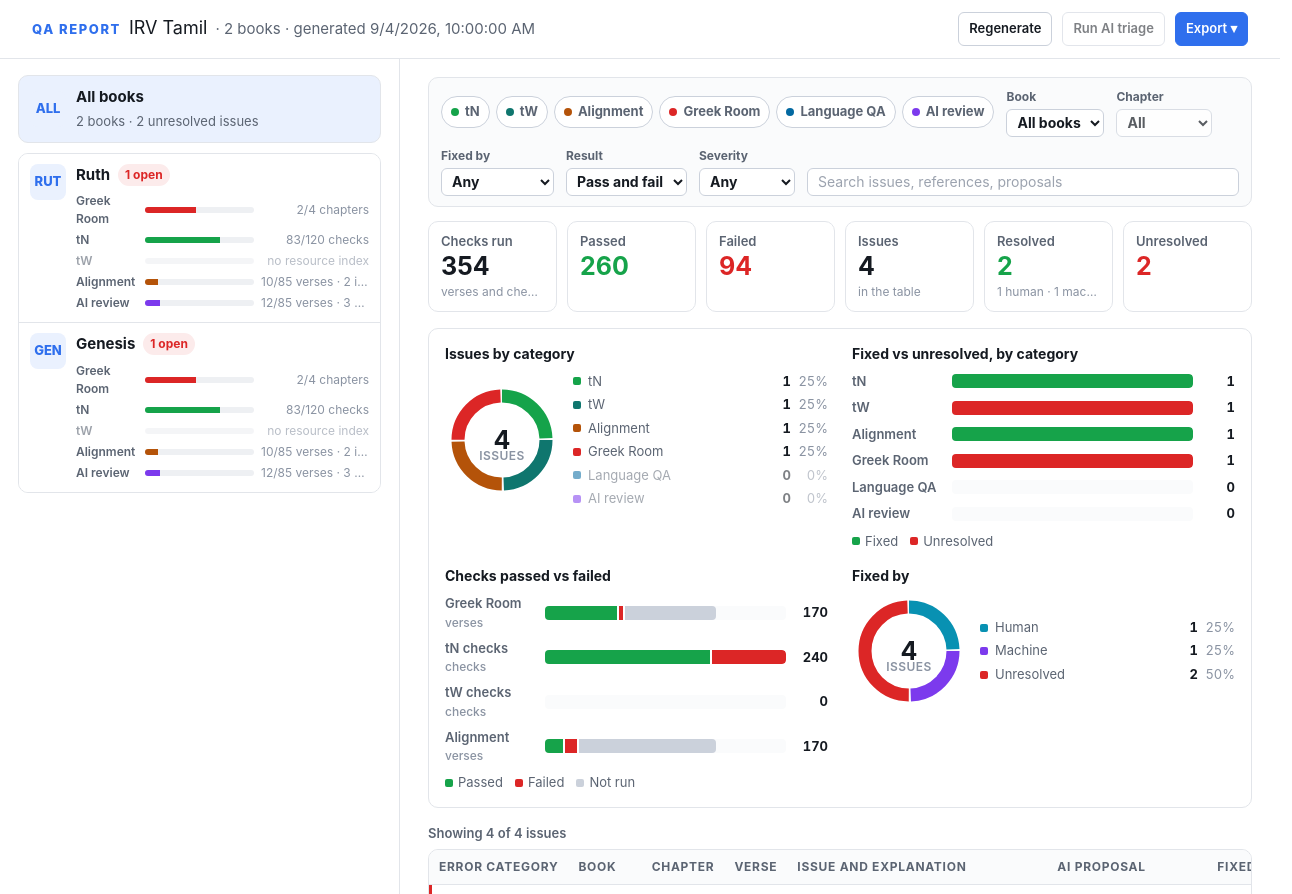
ProjectReportScreen › filters by category chip and clears back to everything
The image size is (1292, 894).
Click the button "tN". click: coordinates (465, 112)
box: [441,96,490,128]
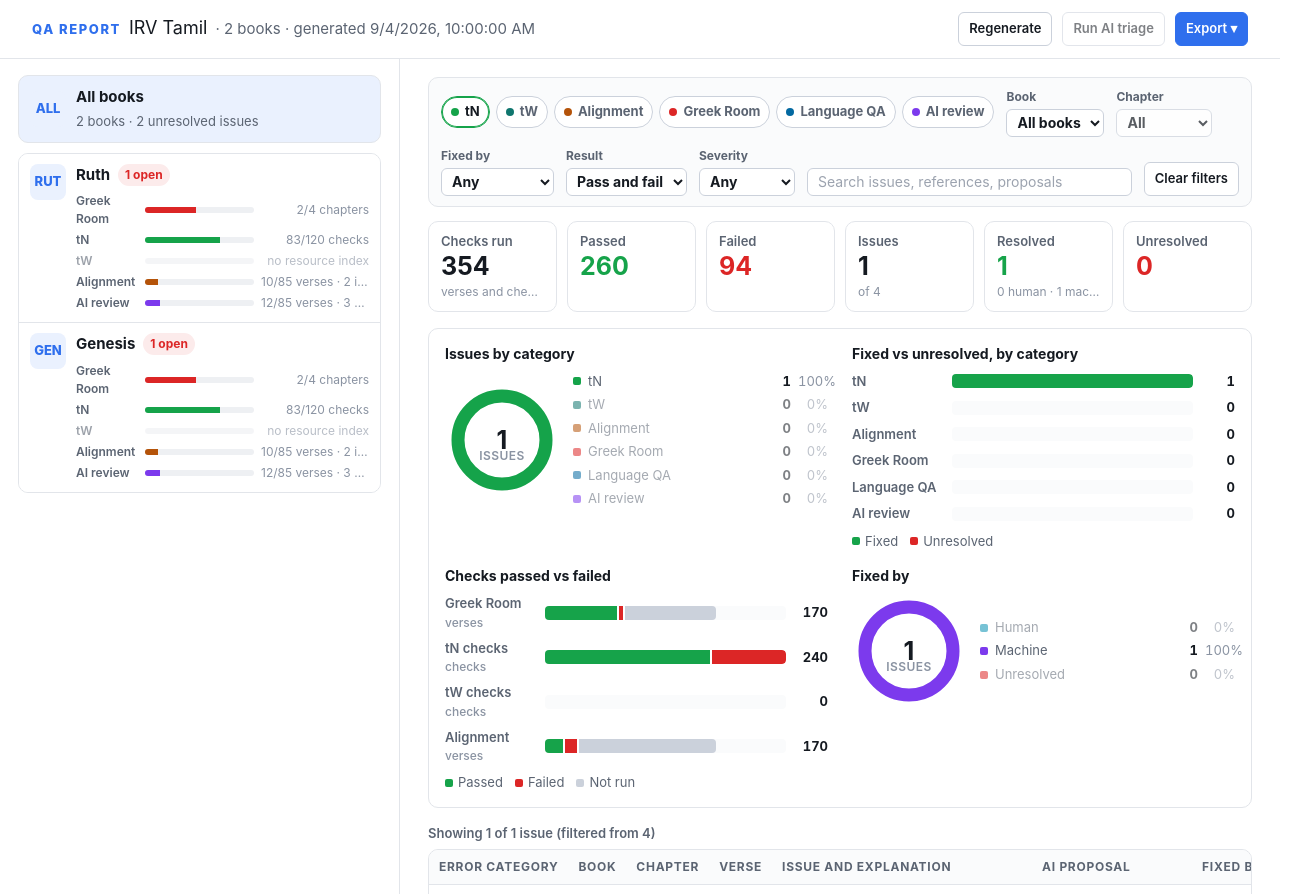
Expected: the text "Showing 1 of 1 issue (filtered from 4)" is shown, [428,824,656,843]
Click the button "Clear filters". click: coordinates (1191, 179)
box: [1144,162,1239,196]
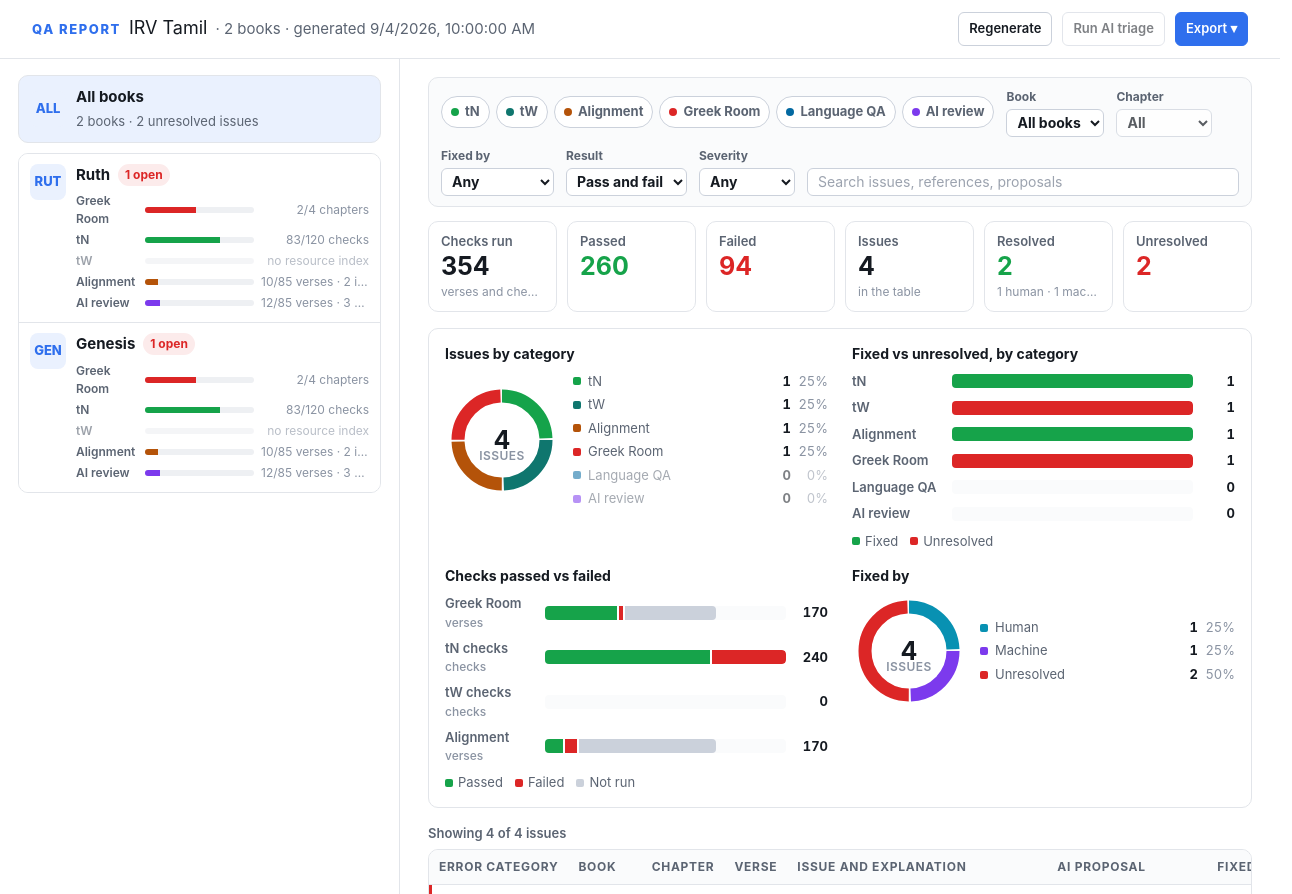
Expected: the text "Showing 4 of 4 issues" is shown, [428,824,566,843]
